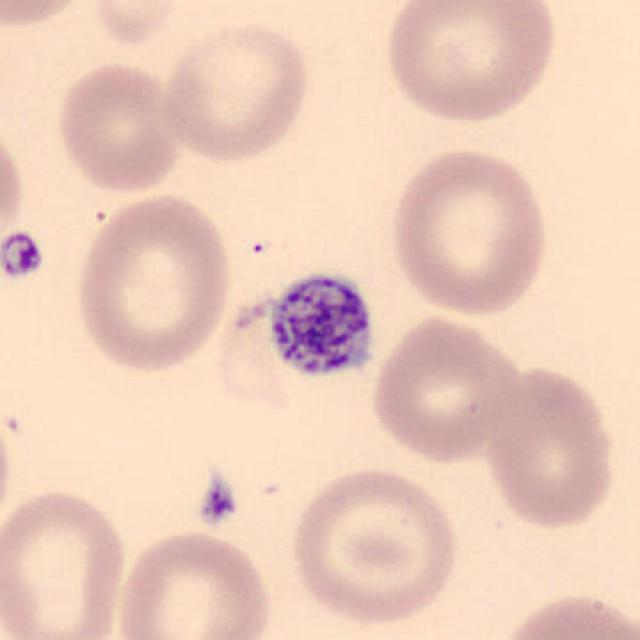Platelets: (263, 266, 379, 384), (194, 472, 240, 530), (0, 228, 46, 282)
RBC: (70, 189, 236, 377), (284, 462, 464, 628), (386, 143, 554, 319), (480, 360, 622, 534), (366, 312, 526, 466), (378, 0, 562, 127), (156, 16, 313, 164), (0, 485, 132, 640), (112, 525, 276, 640), (51, 60, 185, 196), (494, 587, 636, 640), (87, 0, 189, 48), (0, 119, 28, 250), (0, 0, 94, 32), (0, 391, 16, 552)
